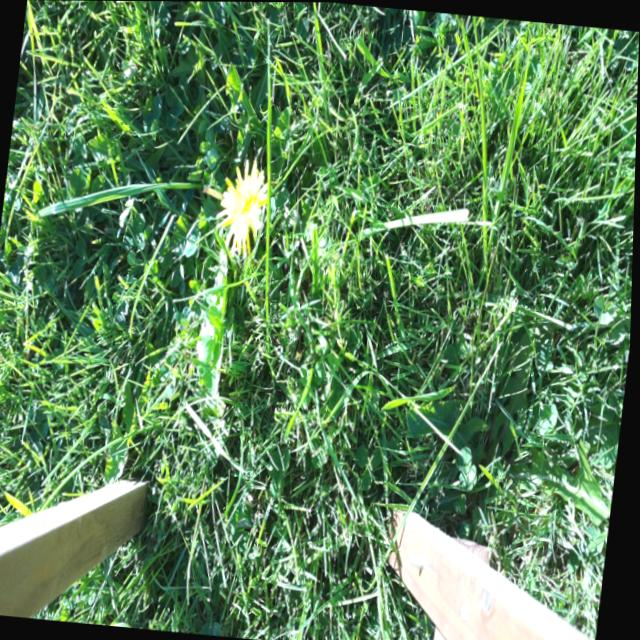flower: (217, 154, 276, 253)
